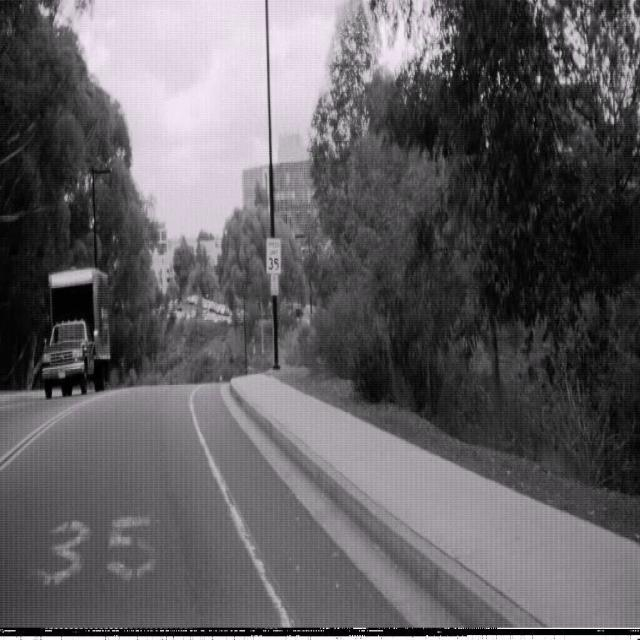speedLimit35: (265, 234, 282, 275)
